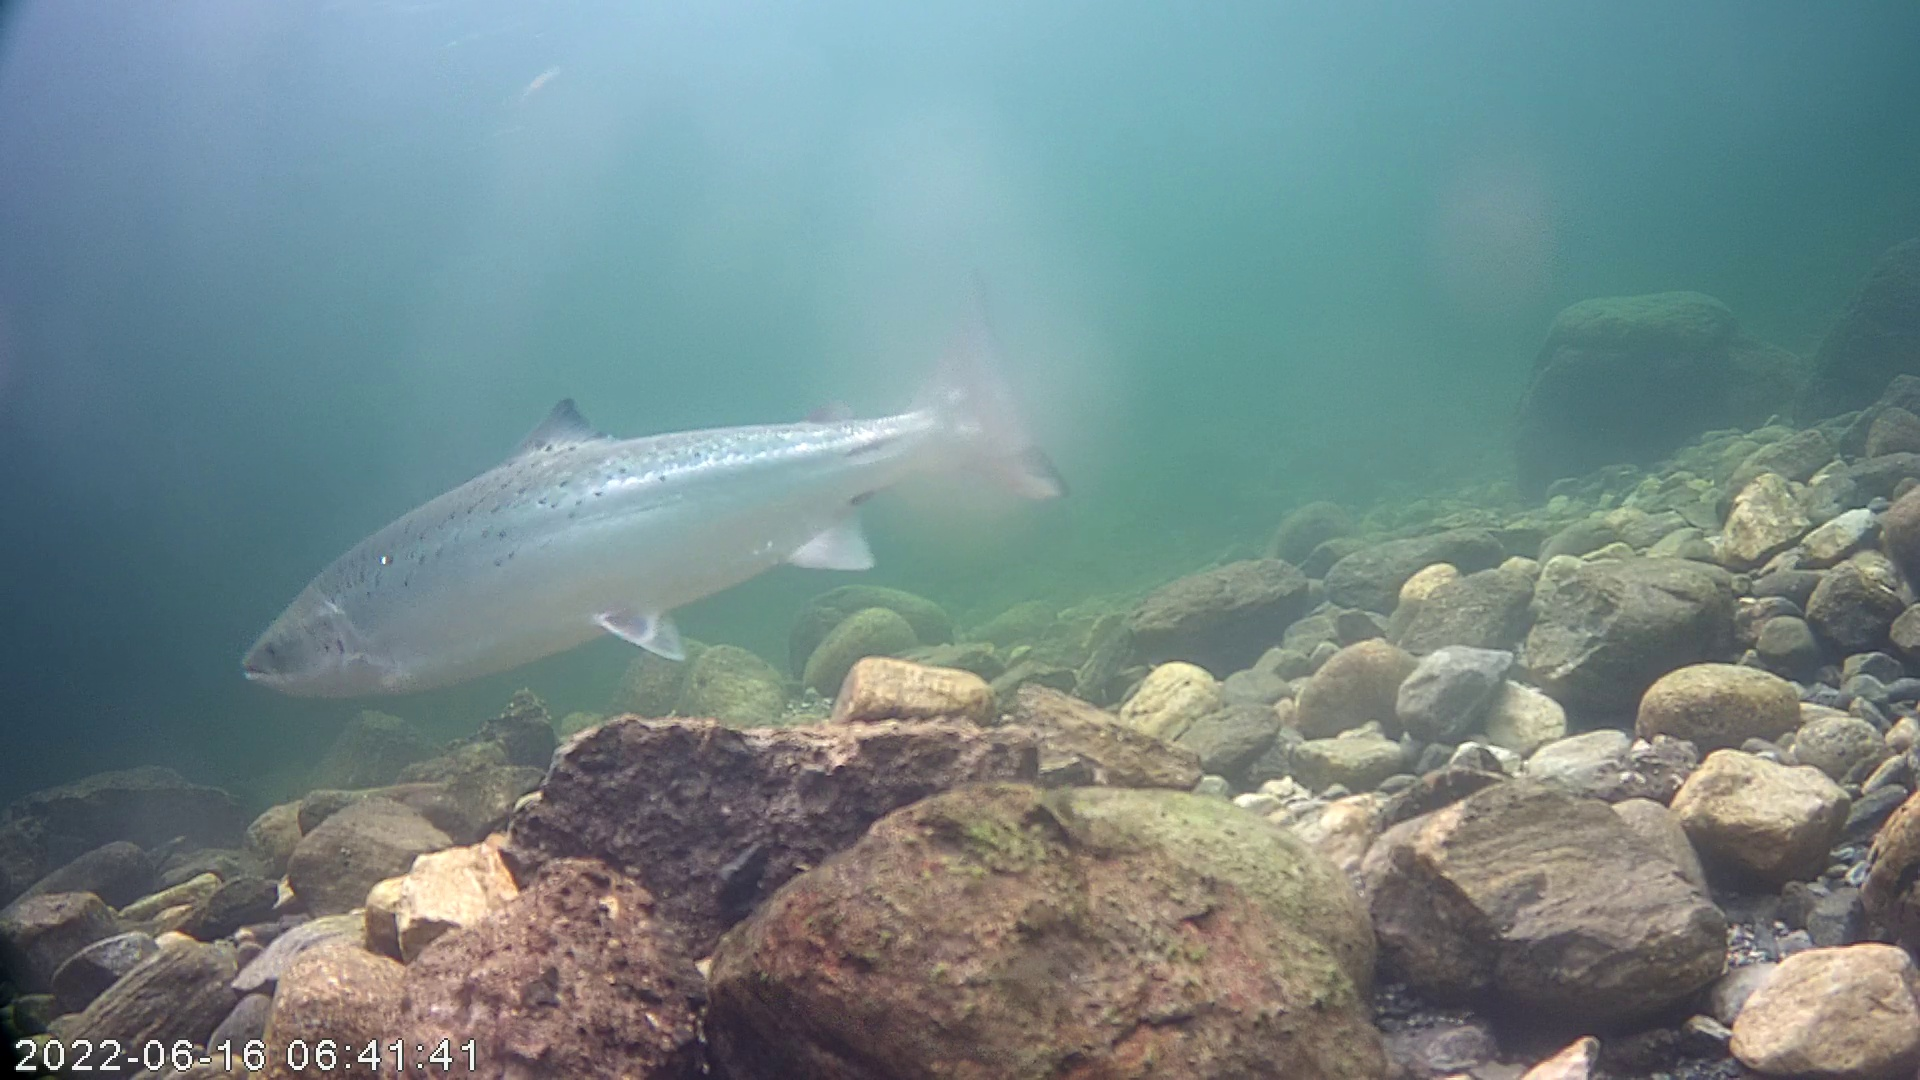salmon: (233, 276, 1080, 705)
